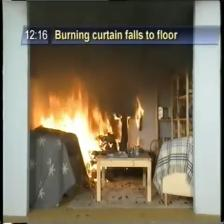fire: (38, 93, 100, 161), (104, 104, 147, 146)
